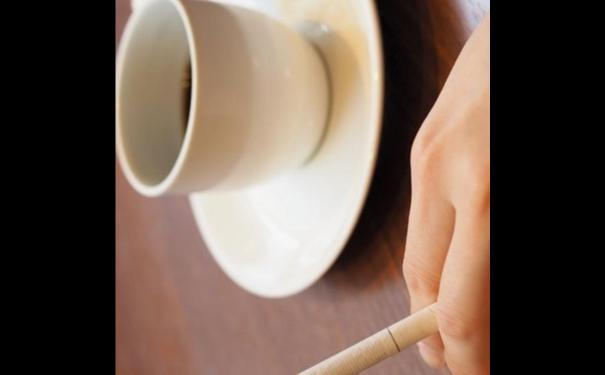Cigarette: (269, 300, 439, 375)
